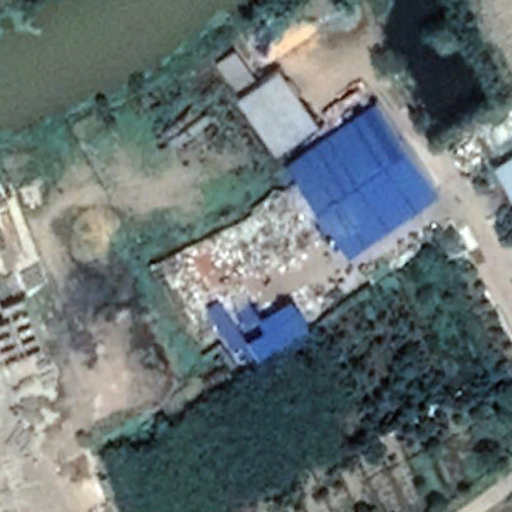msw: (157, 194, 348, 325)
